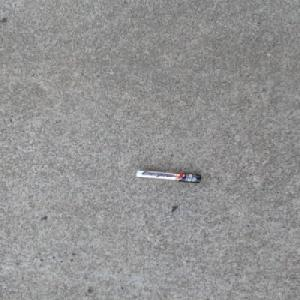Battery: (135, 169, 204, 183)
